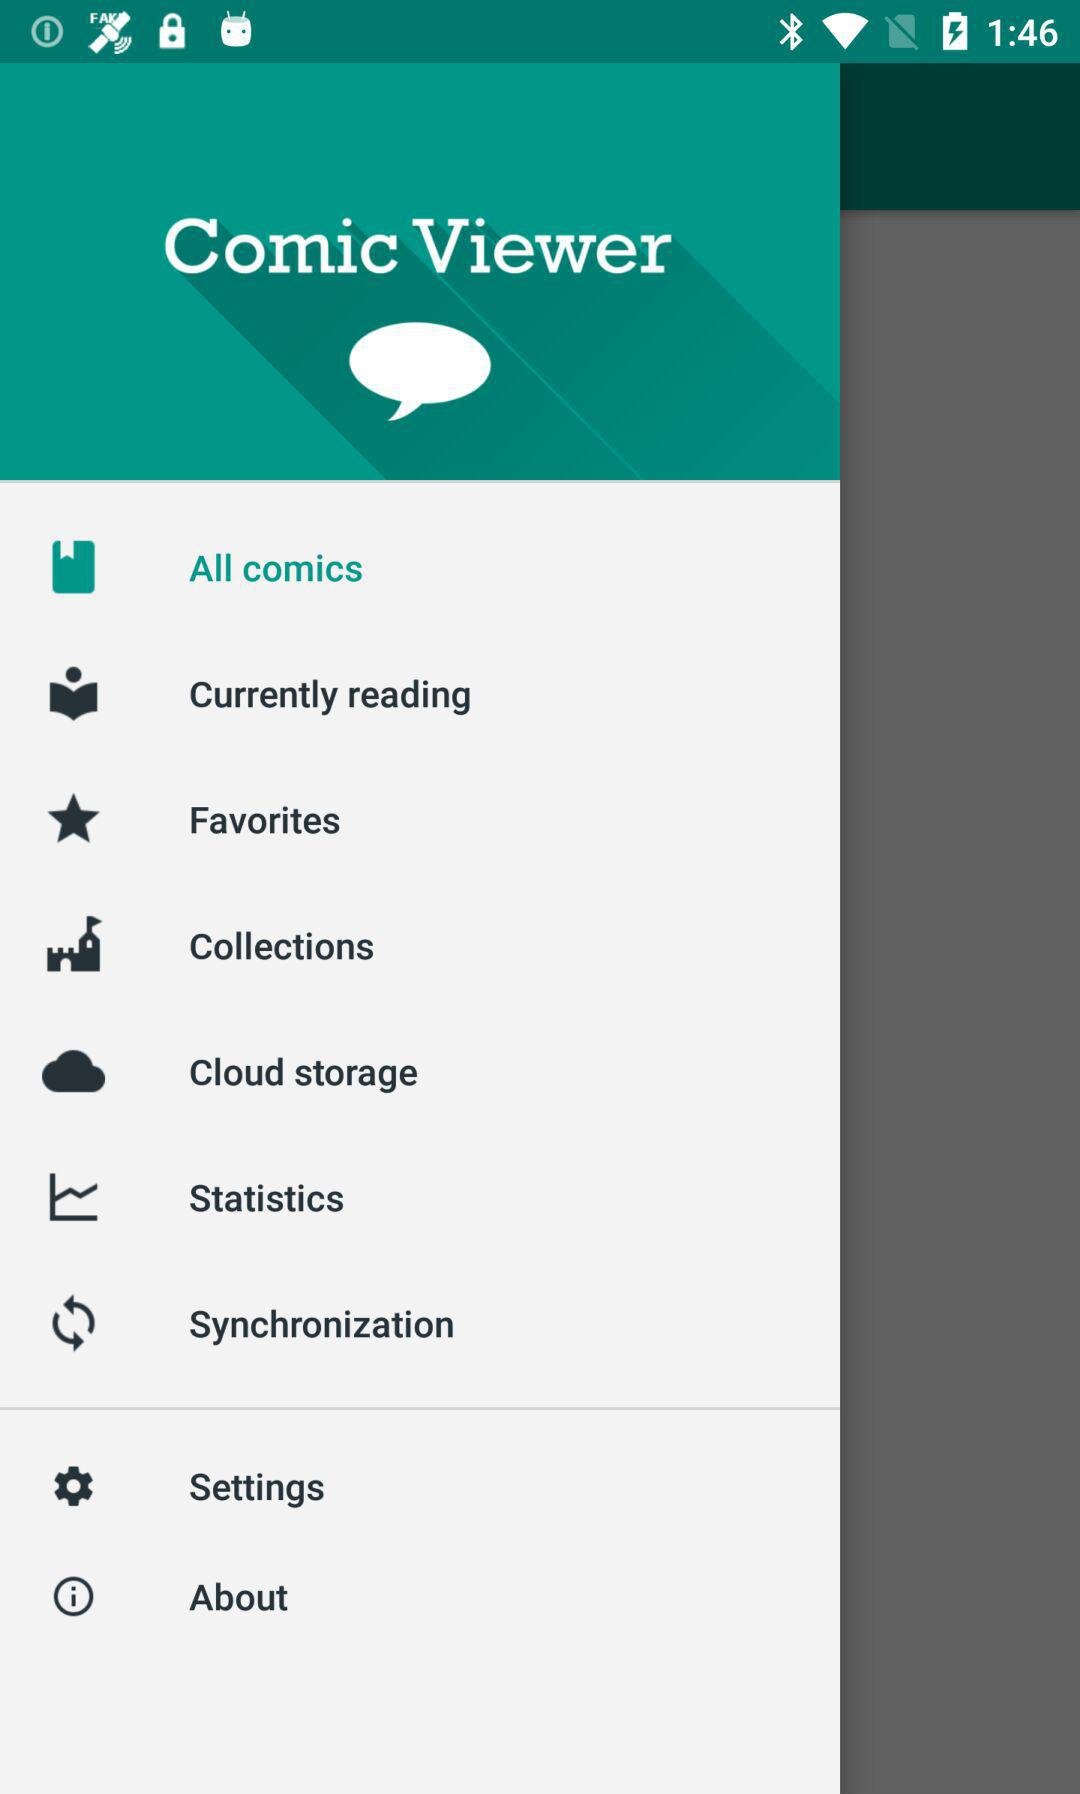Drawer: (1, 64, 840, 1793)
Icon: (42, 1049, 108, 1094), (47, 792, 102, 844), (50, 665, 99, 723), (53, 1294, 97, 1353), (53, 539, 97, 595), (54, 1465, 95, 1507), (54, 1576, 95, 1617)
Image: (348, 322, 493, 425), (47, 914, 104, 973), (50, 1173, 100, 1222)
Text: (165, 217, 673, 276), (190, 1306, 455, 1348), (190, 678, 471, 718), (190, 1056, 419, 1096), (190, 930, 375, 964), (190, 554, 364, 584), (190, 1472, 325, 1510), (190, 1181, 345, 1214), (191, 805, 341, 835), (190, 1581, 290, 1613)
UpperTaskBar: (1, 1, 1080, 64)
